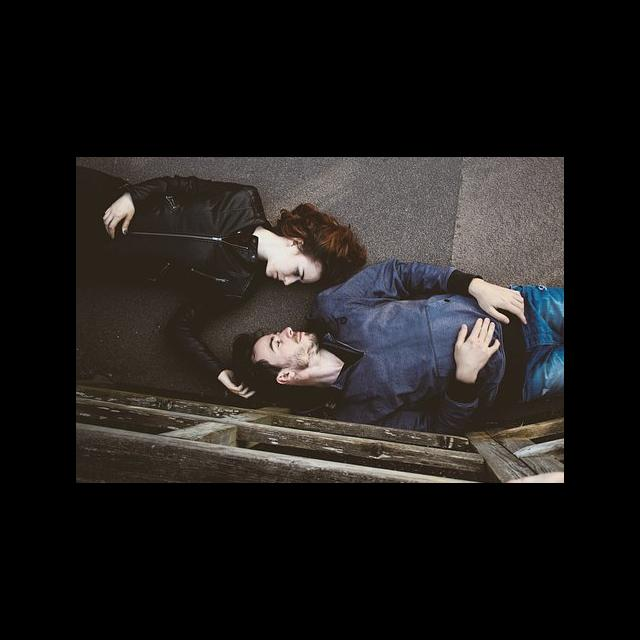female: (229, 181, 346, 288)
male: (232, 309, 337, 403)
